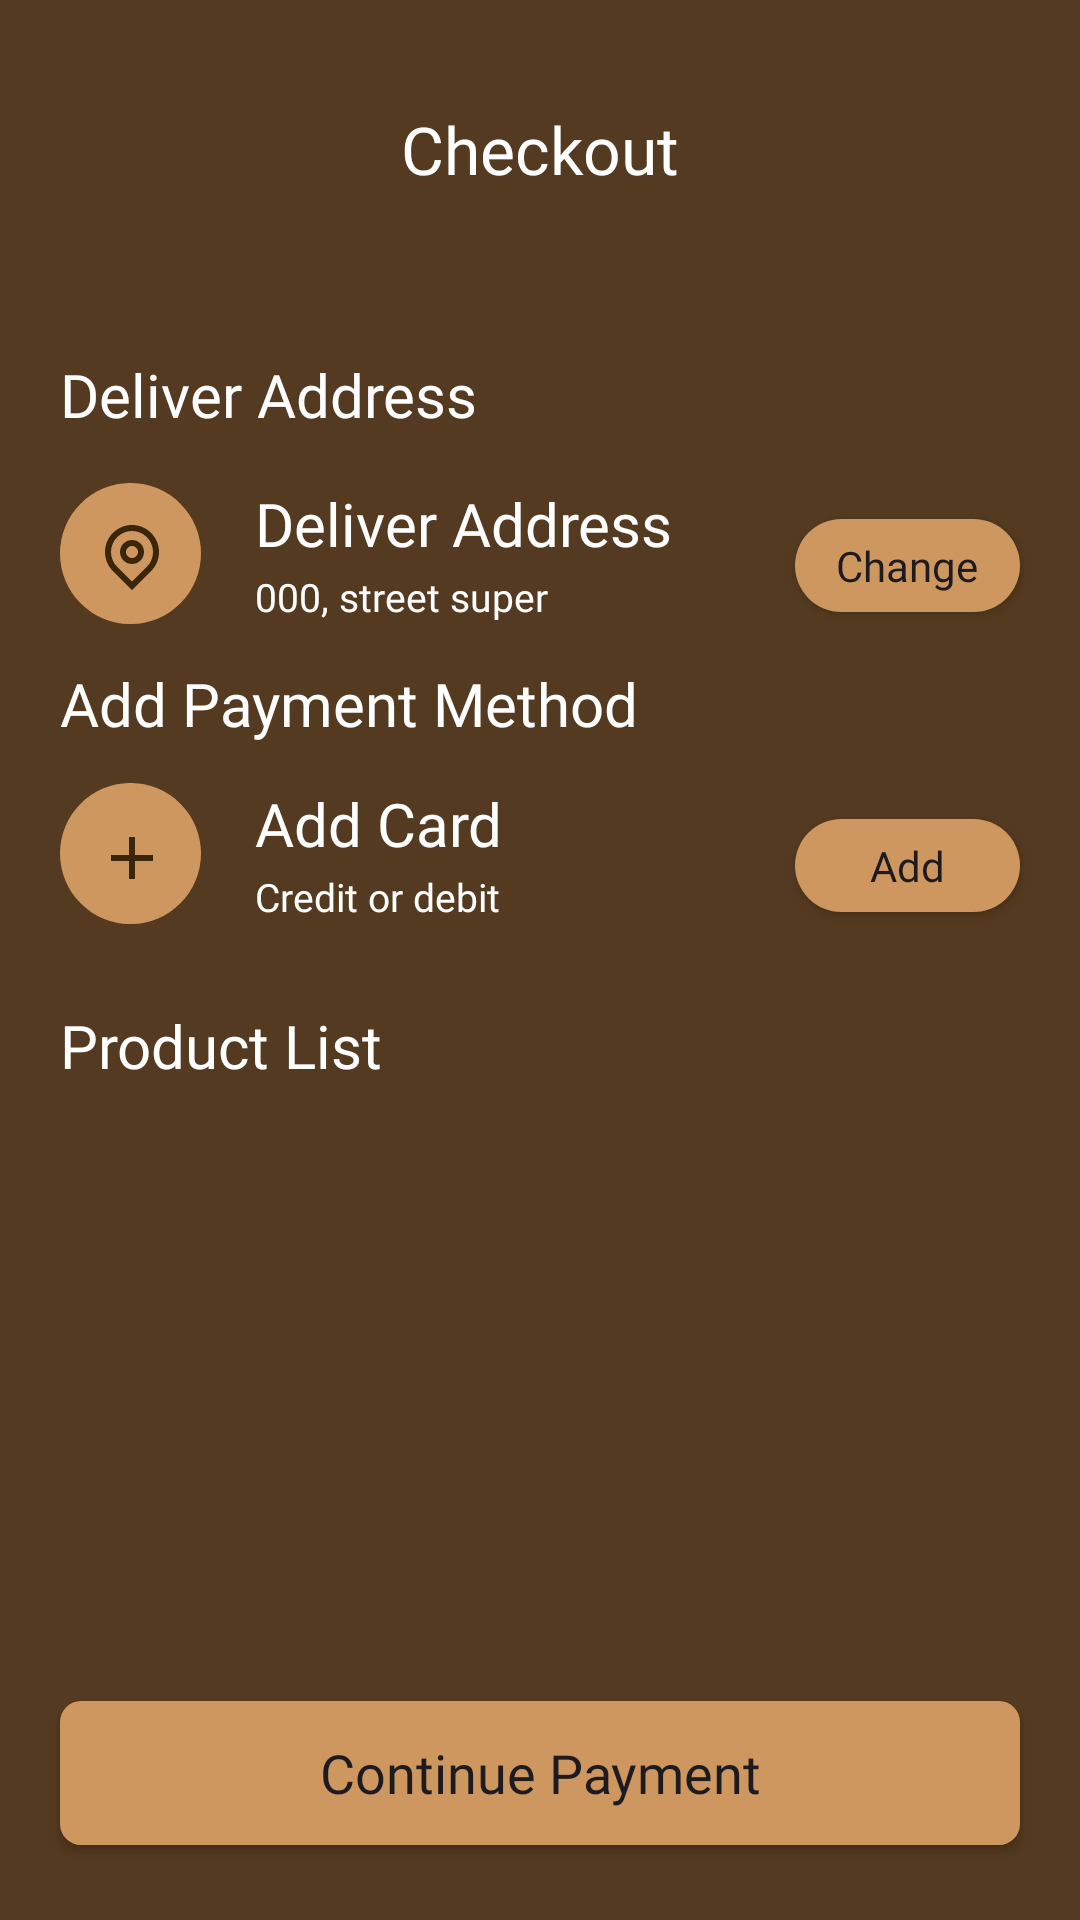

Where icons sit on this 1080px x 1920px app screen, as (x1, y1, x2, y2):
geo: (60, 483, 201, 624)
